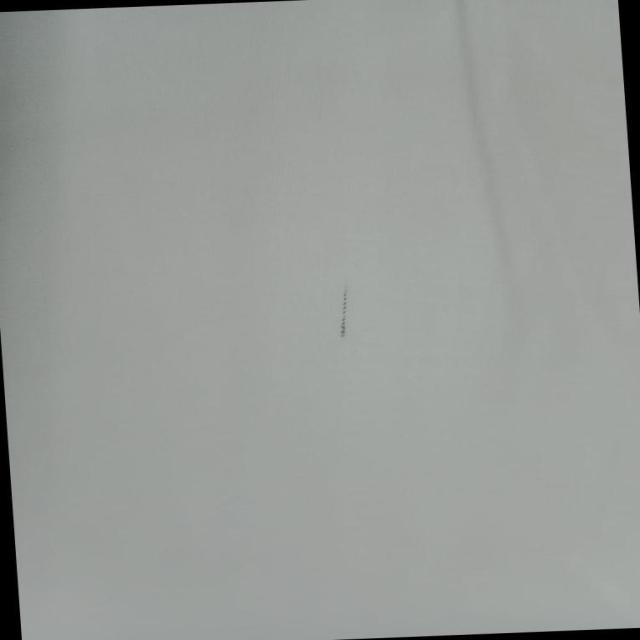contamination: (329, 274, 366, 343)
